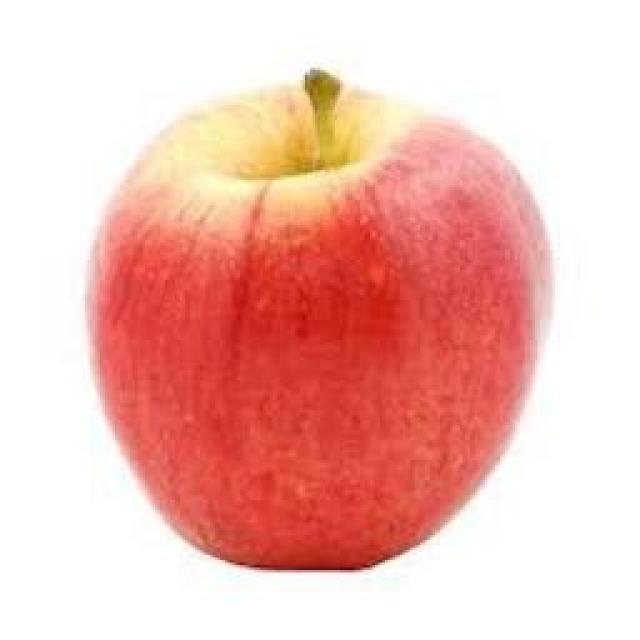Apple: (90, 70, 549, 568)
